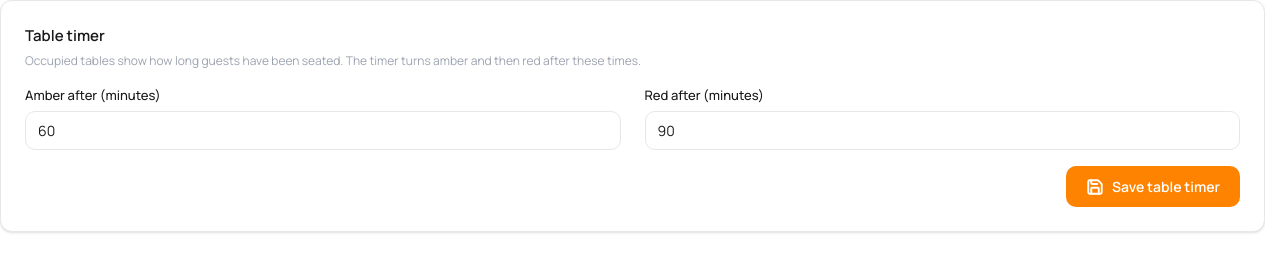
Scenario: TableTimerSettings › red <= amber blocks save with a clear message
Replace the text in the number field labelled "Red after (minutes)" with "60" at [942, 130], box [644,111,1240,150]
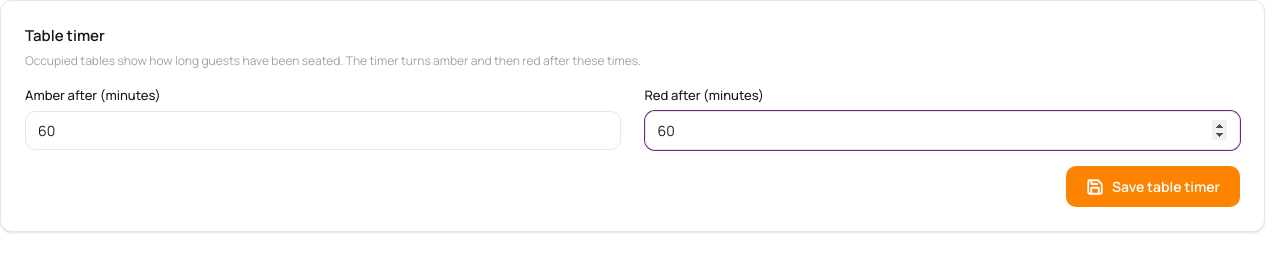
Click the button "Save table timer" at [1153, 186], box [1066,166,1240,207]
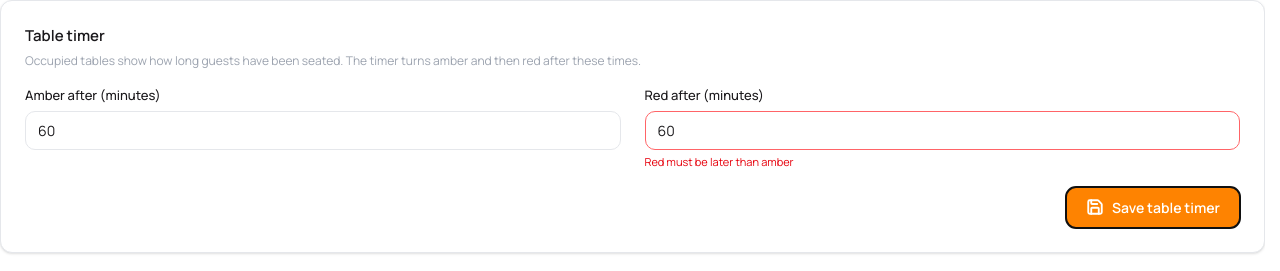
Now the text "Red must be later than amber" is shown, box [644,154,794,169]
